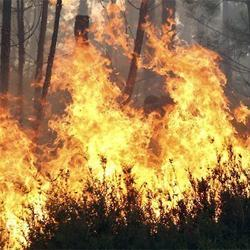fire: (62, 60, 137, 173), (171, 61, 232, 158), (2, 129, 40, 223)
